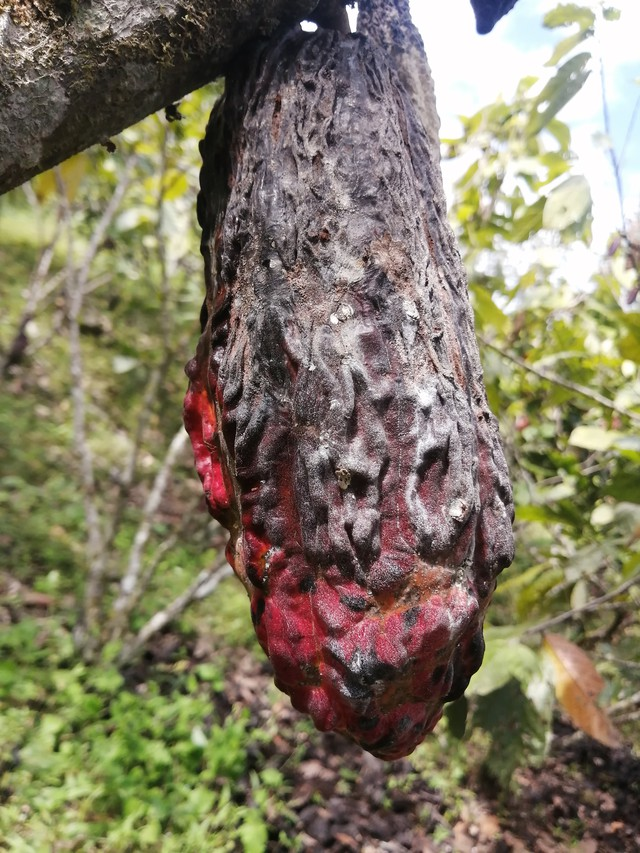moniliophthora roreri: (158, 18, 531, 770)
